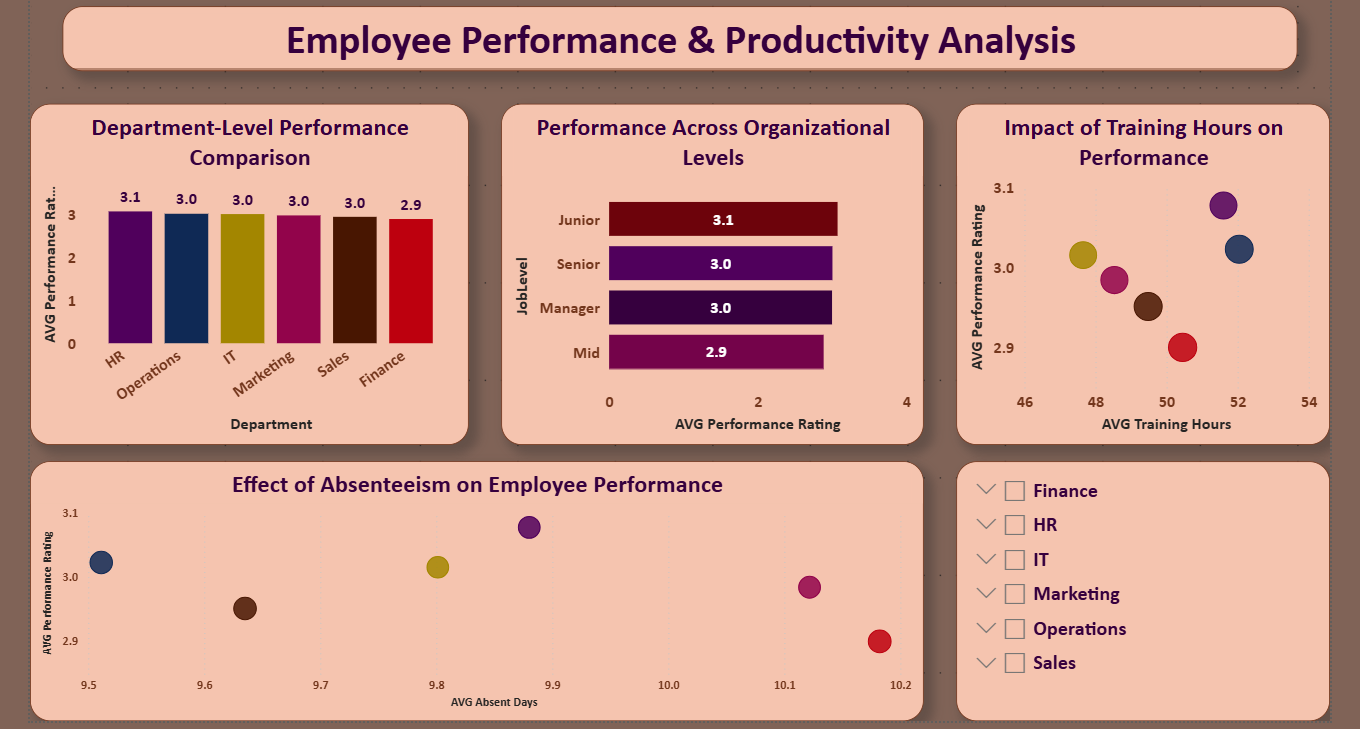

The page's visual inventory and layout, read from the dashboard file:
{"tool":"powerbi","page":{"name":"Productivity","canvas":[1280,720],"ordinal":2},"visuals":[{"type":"textbox","title":"Employee Performance & Productivity Analysis","box":[32,16,1216,64],"z":0},{"type":"columnChart","title":"Department-Level Performance Comparison","fields":{"Category":["HR Data.Department"],"Y":["HR Data.AVG Performance Rating"]},"box":[0,112,432,336],"z":1000},{"type":"barChart","title":"Performance Across Organizational Levels","fields":{"Category":["HR Data.JobLevel"],"Series":["HR Data.JobLevel"],"Y":["HR Data.AVG Performance Rating"]},"box":[464,112,416,336],"z":2000},{"type":"scatterChart","title":"Impact of Training Hours on Performance","fields":{"X":["HR Data.AVG Training Hours"],"Y":["HR Data.AVG Performance Rating"],"Size":["HR Data.Active Employees"],"Category":["HR Data.Department"]},"box":[912,112,368,336],"z":3000},{"type":"scatterChart","title":"Effect of Absenteeism on Employee Performance","fields":{"Size":["HR Data.Active Employees"],"Series":["HR Data.Department"],"Y":["HR Data.AVG Performance Rating"],"X":["HR Data.AVG Absent Days"]},"box":[0,464,880,256],"z":4000},{"type":"slicer","fields":{"Values":["HR Data.Department","HR Data.Location","HR Data.JobLevel"]},"box":[912,464,368,256],"z":5000}]}

Visuals, with their boxes on the page's 1280x720 design canvas (x1, y1, x2, y2). These are canvas units, not pixel positions in the 1360x729 screenshot, which may show the page scaled, cropped or inside an application window:
"Employee Performance & Productivity Analysis" textbox: <region>32, 16, 1248, 80</region>
"Department-Level Performance Comparison" columnChart: <region>0, 112, 432, 448</region>
"Performance Across Organizational Levels" barChart: <region>464, 112, 880, 448</region>
"Impact of Training Hours on Performance" scatterChart: <region>912, 112, 1280, 448</region>
"Effect of Absenteeism on Employee Performance" scatterChart: <region>0, 464, 880, 720</region>
slicer - HR Data.Department x HR Data.Location: <region>912, 464, 1280, 720</region>
